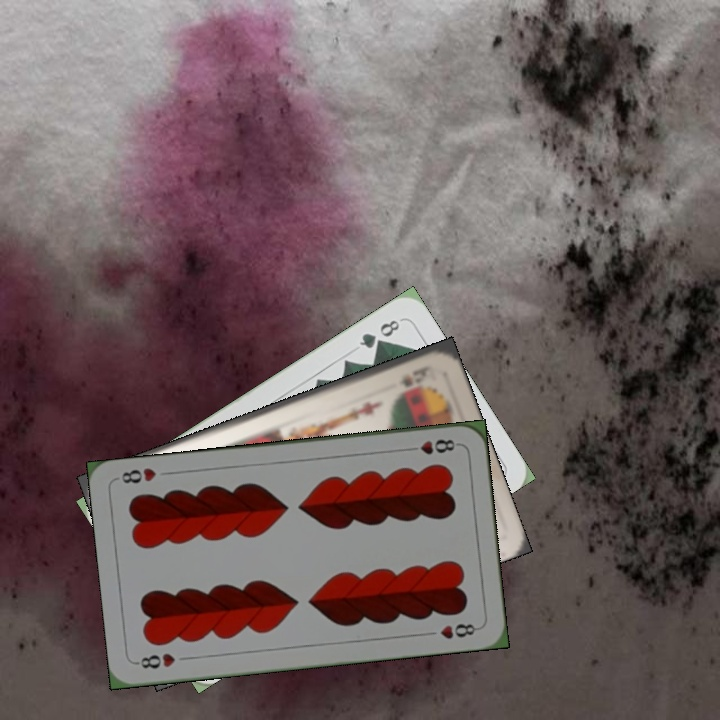G8: (355, 315, 404, 352)
H8: (402, 435, 461, 457), (133, 649, 178, 671)
SK: (396, 361, 434, 390)
